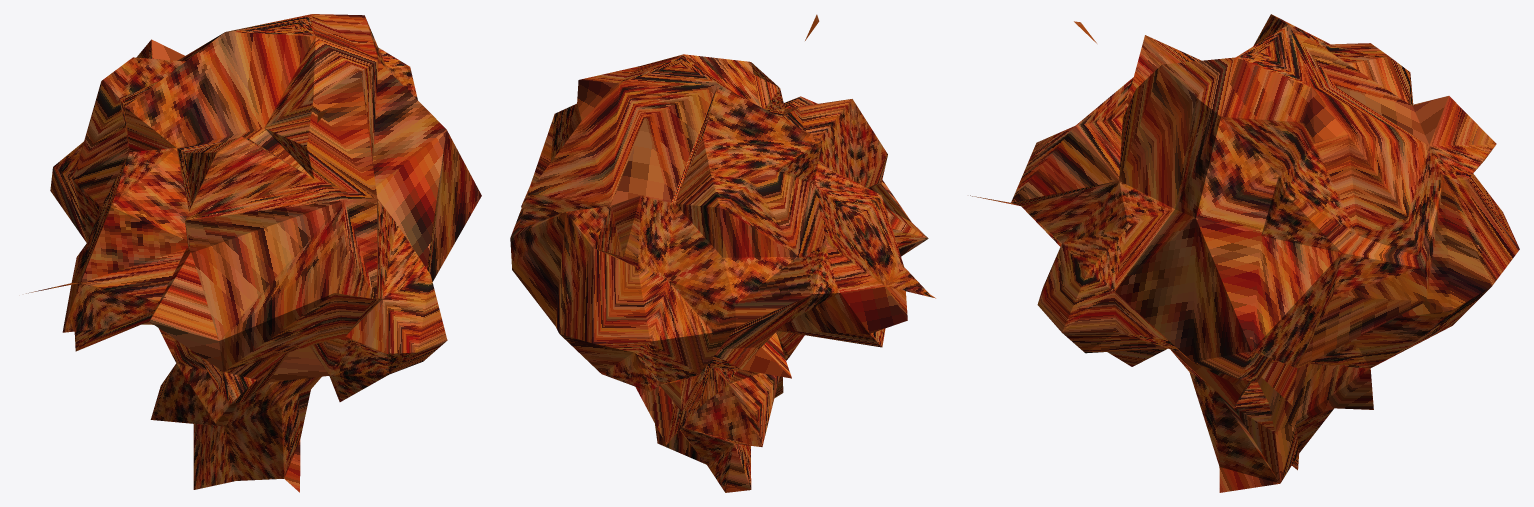
3 renders of one model, left to right at view 1: azimuth 30°, elevation 25°; view 2: azimuth 150°, elevation 25°; view 3: azimuth 270°, elevation 25°, orthographic. The views are drawn at different scales.
Parts seen in each view (by area): view 1: Object_4; view 2: Object_4; view 3: Object_4.
Part boxes in pixels (box(x1,y1,x2,y2)): Object_4: box(26, 14, 481, 492); Object_4: box(510, 14, 935, 492); Object_4: box(970, 14, 1519, 492).
Size of the model in its own units: 0.7025 by 0.6501 by 0.7201.
Materials: 1 (1 with a texture image).
